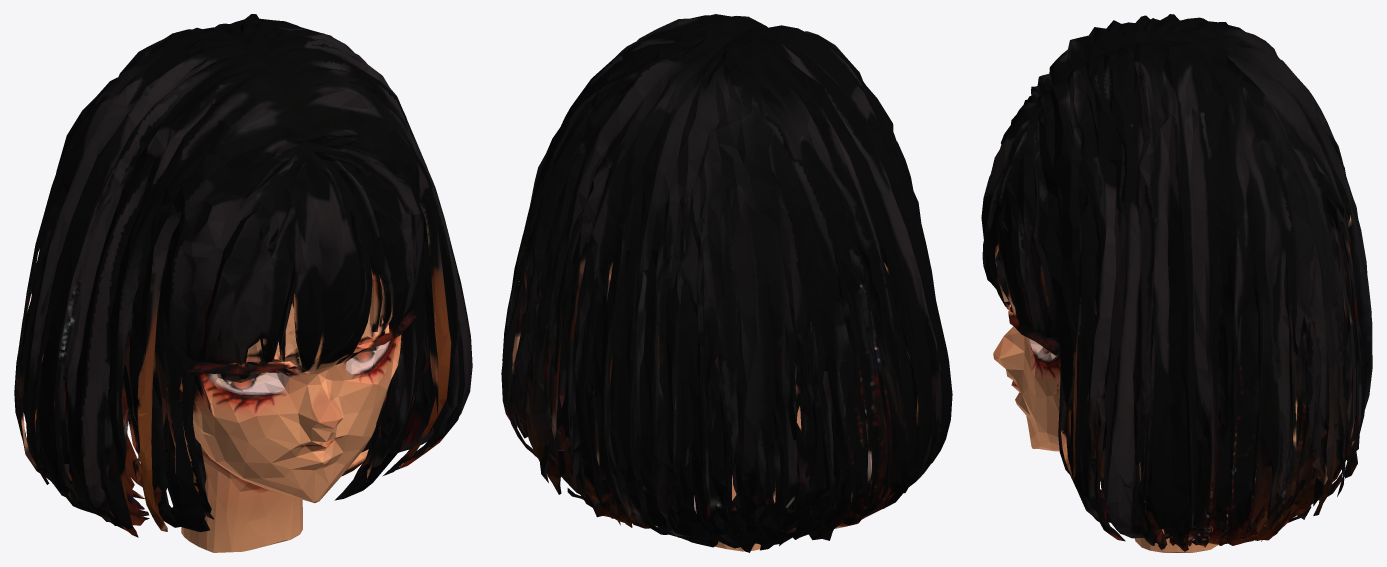
Rendered from side_muika_repaired_atlas.glb.
3 renders of one model, left to right at view 1: azimuth 30°, elevation 25°; view 2: azimuth 150°, elevation 25°; view 3: azimuth 270°, elevation 25°, orthographic.
Parts seen in each view (by area): view 1: temp_mesh.ply; view 2: temp_mesh.ply; view 3: temp_mesh.ply.
Part boxes in pixels (x1=…): temp_mesh.ply: x1=14, y1=14, x2=472, y2=552; temp_mesh.ply: x1=501, y1=14, x2=952, y2=552; temp_mesh.ply: x1=981, y1=14, x2=1372, y2=552.
Bounding box in the file's own units: 1.7 × 1.97 × 1.42.
1 material, 1 textured.
